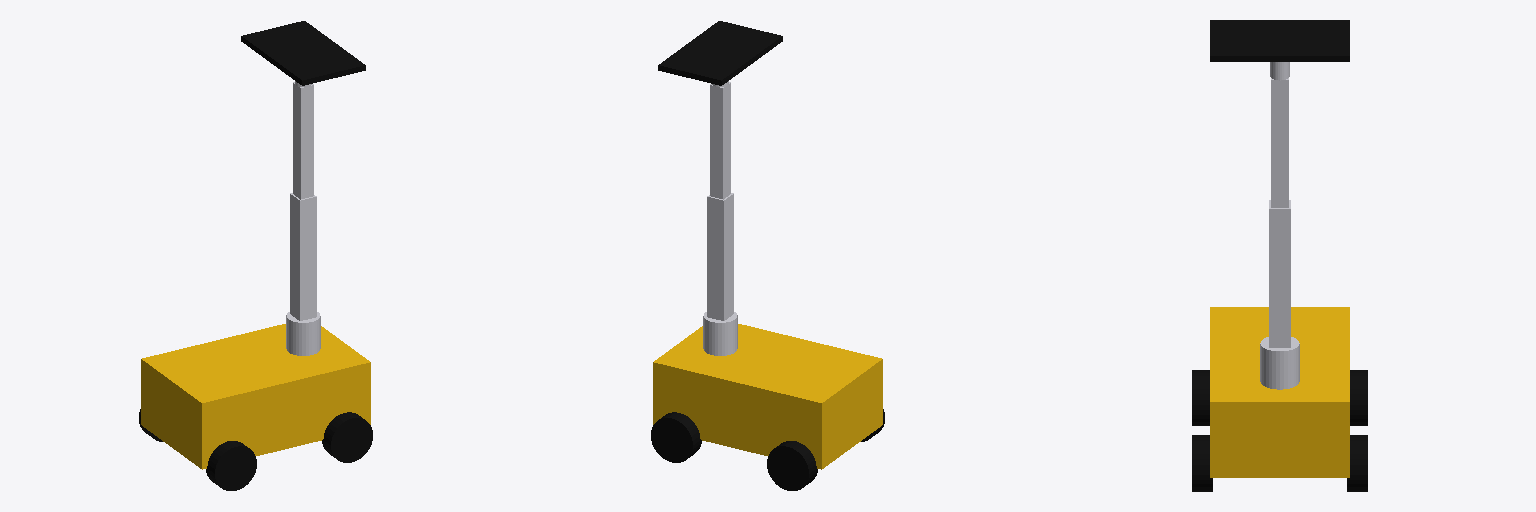
The robot description file, URDF, robot "viaz-instalador-ficticio":
<?xml version="1.0"?>
<robot name="viaz-instalador-ficticio">
  <material name="cuerpo"><color rgba="0.95 0.75 0.1 1"/></material>
  <material name="brazo"><color rgba="0.85 0.85 0.88 1"/></material>
  <material name="negro"><color rgba="0.1 0.1 0.1 1"/></material>

  <link name="base_link">
    <visual><origin xyz="0 0 0.5"/><geometry><box size="1.6 1.0 0.6"/></geometry><material name="cuerpo"/></visual>
    <collision><origin xyz="0 0 0.5"/><geometry><box size="1.6 1.0 0.6"/></geometry></collision>
    <inertial>
      <origin xyz="0 0 0.5"/><mass value="600.0"/>
      <inertia ixx="68.00000" iyy="146.00000" izz="178.00000" ixy="0" ixz="0" iyz="0"/>
    </inertial>
  </link>

  <link name="rueda_0">
    <visual><origin xyz="0 0 0"/><geometry><cylinder radius="0.2" length="0.15"/></geometry><material name="negro"/></visual>
    <collision><origin xyz="0 0 0"/><geometry><cylinder radius="0.2" length="0.15"/></geometry></collision>
    <inertial>
      <origin xyz="0 0 0"/><mass value="15.0"/>
      <inertia ixx="0.17813" iyy="0.17813" izz="0.30000" ixy="0" ixz="0" iyz="0"/>
    </inertial>
  </link>
  <joint name="rueda_0_fija" type="fixed"><parent link="base_link"/><child link="rueda_0"/><origin xyz="0.55 0.55 0.2" rpy="1.5708 0 0"/></joint>

  <link name="rueda_1">
    <visual><origin xyz="0 0 0"/><geometry><cylinder radius="0.2" length="0.15"/></geometry><material name="negro"/></visual>
    <collision><origin xyz="0 0 0"/><geometry><cylinder radius="0.2" length="0.15"/></geometry></collision>
    <inertial>
      <origin xyz="0 0 0"/><mass value="15.0"/>
      <inertia ixx="0.17813" iyy="0.17813" izz="0.30000" ixy="0" ixz="0" iyz="0"/>
    </inertial>
  </link>
  <joint name="rueda_1_fija" type="fixed"><parent link="base_link"/><child link="rueda_1"/><origin xyz="0.55 -0.55 0.2" rpy="1.5708 0 0"/></joint>

  <link name="rueda_2">
    <visual><origin xyz="0 0 0"/><geometry><cylinder radius="0.2" length="0.15"/></geometry><material name="negro"/></visual>
    <collision><origin xyz="0 0 0"/><geometry><cylinder radius="0.2" length="0.15"/></geometry></collision>
    <inertial>
      <origin xyz="0 0 0"/><mass value="15.0"/>
      <inertia ixx="0.17813" iyy="0.17813" izz="0.30000" ixy="0" ixz="0" iyz="0"/>
    </inertial>
  </link>
  <joint name="rueda_2_fija" type="fixed"><parent link="base_link"/><child link="rueda_2"/><origin xyz="-0.55 0.55 0.2" rpy="1.5708 0 0"/></joint>

  <link name="rueda_3">
    <visual><origin xyz="0 0 0"/><geometry><cylinder radius="0.2" length="0.15"/></geometry><material name="negro"/></visual>
    <collision><origin xyz="0 0 0"/><geometry><cylinder radius="0.2" length="0.15"/></geometry></collision>
    <inertial>
      <origin xyz="0 0 0"/><mass value="15.0"/>
      <inertia ixx="0.17813" iyy="0.17813" izz="0.30000" ixy="0" ixz="0" iyz="0"/>
    </inertial>
  </link>
  <joint name="rueda_3_fija" type="fixed"><parent link="base_link"/><child link="rueda_3"/><origin xyz="-0.55 -0.55 0.2" rpy="1.5708 0 0"/></joint>

  <link name="hombro">
    <visual><origin xyz="0 0 0.15"/><geometry><cylinder radius="0.14" length="0.3"/></geometry><material name="brazo"/></visual>
    <collision><origin xyz="0 0 0.15"/><geometry><cylinder radius="0.14" length="0.3"/></geometry></collision>
    <inertial>
      <origin xyz="0 0 0.15"/><mass value="14.963"/>
      <inertia ixx="0.18554" iyy="0.18554" izz="0.14664" ixy="0" ixz="0" iyz="0"/>
    </inertial>
  </link>

  <joint name="shoulder_pan" type="revolute">
    <parent link="base_link"/><child link="hombro"/>
    <origin xyz="0.45 0 0.8"/><axis xyz="0 0 1"/>
    <limit lower="-3.1" upper="3.1" effort="1500" velocity="1.5"/>
    <dynamics damping="5.0" friction="0.0"/>
  </joint>

  <link name="brazo">
    <visual><origin xyz="0 0 0.546"/><geometry><box size="0.16 0.16 1.092"/></geometry><material name="brazo"/></visual>
    <collision><origin xyz="0 0 0.546"/><geometry><box size="0.16 0.16 1.092"/></geometry></collision>
    <inertial>
      <origin xyz="0 0 0.546"/><mass value="22.644"/>
      <inertia ixx="2.29849" iyy="2.29849" izz="0.09661" ixy="0" ixz="0" iyz="0"/>
    </inertial>
  </link>

  <joint name="shoulder_lift" type="revolute">
    <parent link="hombro"/><child link="brazo"/>
    <origin xyz="0 0 0.3"/><axis xyz="0 1 0"/>
    <limit lower="-3.1" upper="3.1" effort="3000" velocity="1.5"/>
    <dynamics damping="5.0" friction="0.0"/>
  </joint>

  <link name="antebrazo">
    <visual><origin xyz="0 0 0.504"/><geometry><box size="0.13 0.13 1.008"/></geometry><material name="brazo"/></visual>
    <collision><origin xyz="0 0 0.504"/><geometry><box size="0.13 0.13 1.008"/></geometry></collision>
    <inertial>
      <origin xyz="0 0 0.504"/><mass value="13.799"/>
      <inertia ixx="1.18782" iyy="1.18782" izz="0.03887" ixy="0" ixz="0" iyz="0"/>
    </inertial>
  </link>

  <joint name="elbow" type="revolute">
    <parent link="brazo"/><child link="antebrazo"/>
    <origin xyz="0 0 1.092"/><axis xyz="0 1 0"/>
    <limit lower="-3.1" upper="3.1" effort="1500" velocity="1.5"/>
    <dynamics damping="5.0" friction="0.0"/>
  </joint>

  <link name="muneca_1">
    <visual><origin xyz="0 0 0.075"/><geometry><cylinder radius="0.07" length="0.15"/></geometry><material name="brazo"/></visual>
    <collision><origin xyz="0 0 0.075"/><geometry><cylinder radius="0.07" length="0.15"/></geometry></collision>
    <inertial>
      <origin xyz="0 0 0.075"/><mass value="1.87"/>
      <inertia ixx="0.00580" iyy="0.00580" izz="0.00458" ixy="0" ixz="0" iyz="0"/>
    </inertial>
  </link>

  <joint name="wrist_1" type="revolute">
    <parent link="antebrazo"/><child link="muneca_1"/>
    <origin xyz="0 0 1.008"/><axis xyz="0 1 0"/>
    <limit lower="-3.1" upper="3.1" effort="400" velocity="1.5"/>
    <dynamics damping="5.0" friction="0.0"/>
  </joint>

  <link name="muneca_2">
    <visual><origin xyz="0 0 0.05"/><geometry><cylinder radius="0.06" length="0.1"/></geometry><material name="brazo"/></visual>
    <collision><origin xyz="0 0 0.05"/><geometry><cylinder radius="0.06" length="0.1"/></geometry></collision>
    <inertial>
      <origin xyz="0 0 0.05"/><mass value="0.916"/>
      <inertia ixx="0.00159" iyy="0.00159" izz="0.00165" ixy="0" ixz="0" iyz="0"/>
    </inertial>
  </link>

  <joint name="wrist_2" type="revolute">
    <parent link="muneca_1"/><child link="muneca_2"/>
    <origin xyz="0 0 0.15"/><axis xyz="0 0 1"/>
    <limit lower="-3.1" upper="3.1" effort="200" velocity="1.5"/>
    <dynamics damping="5.0" friction="0.0"/>
  </joint>

  <link name="efector">
    <visual><origin xyz="0 0 0.025"/><geometry><box size="0.6 1.0 0.05"/></geometry><material name="negro"/></visual>
    <collision><origin xyz="0 0 0.025"/><geometry><box size="0.6 1.0 0.05"/></geometry></collision>
    <inertial>
      <origin xyz="0 0 0.025"/><mass value="6.0"/>
      <inertia ixx="0.50125" iyy="0.18125" izz="0.68000" ixy="0" ixz="0" iyz="0"/>
    </inertial>
  </link>

  <joint name="wrist_3" type="revolute">
    <parent link="muneca_2"/><child link="efector"/>
    <origin xyz="0 0 0.1"/><axis xyz="1 0 0"/>
    <limit lower="-3.1" upper="3.1" effort="200" velocity="1.5"/>
    <dynamics damping="5.0" friction="0.0"/>
  </joint>
</robot>

--- Facts derived from the render (not from the file) ---
Views: 3 orthographic renders of the robot side by side, from view 1: azimuth 30°, elevation 25°; view 2: azimuth 150°, elevation 25°; view 3: azimuth 270°, elevation 25°.
Robot: viaz-instalador-ficticio — 11 links, 10 joints (6 revolute, 4 fixed); root link base_link; default pose: all joints at 0.
Visible links, largest first — view 1: base_link, efector, brazo, antebrazo, rueda_3, rueda_1, hombro; view 2: base_link, efector, brazo, antebrazo, rueda_2, rueda_0, hombro; view 3: base_link, efector, brazo, antebrazo, hombro, rueda_0, rueda_1, rueda_2, rueda_3.
Link boxes in pixels (x1,y1,x2,y2): base_link: (141,324,370,469); efector: (241,21,365,85); brazo: (290,193,316,320); antebrazo: (293,82,313,199); rueda_3: (206,441,256,490); rueda_1: (322,412,372,462); hombro: (286,312,320,355); base_link: (653,324,882,469); efector: (658,21,782,85); brazo: (707,193,733,320); antebrazo: (710,82,730,199); rueda_2: (767,441,817,490); rueda_0: (651,412,701,462); hombro: (703,312,737,355); base_link: (1210,307,1349,477); efector: (1210,20,1349,61); brazo: (1269,200,1290,347); antebrazo: (1271,78,1288,207); hombro: (1260,337,1299,389); rueda_0: (1347,435,1367,491); rueda_1: (1192,435,1212,491); rueda_2: (1350,370,1367,425); rueda_3: (1192,370,1209,425).
Size in the robot's own frame: 1.6 by 1.25 by 3.5 metres.
Geometry: primitives only (box / cylinder / sphere), no mesh files.
